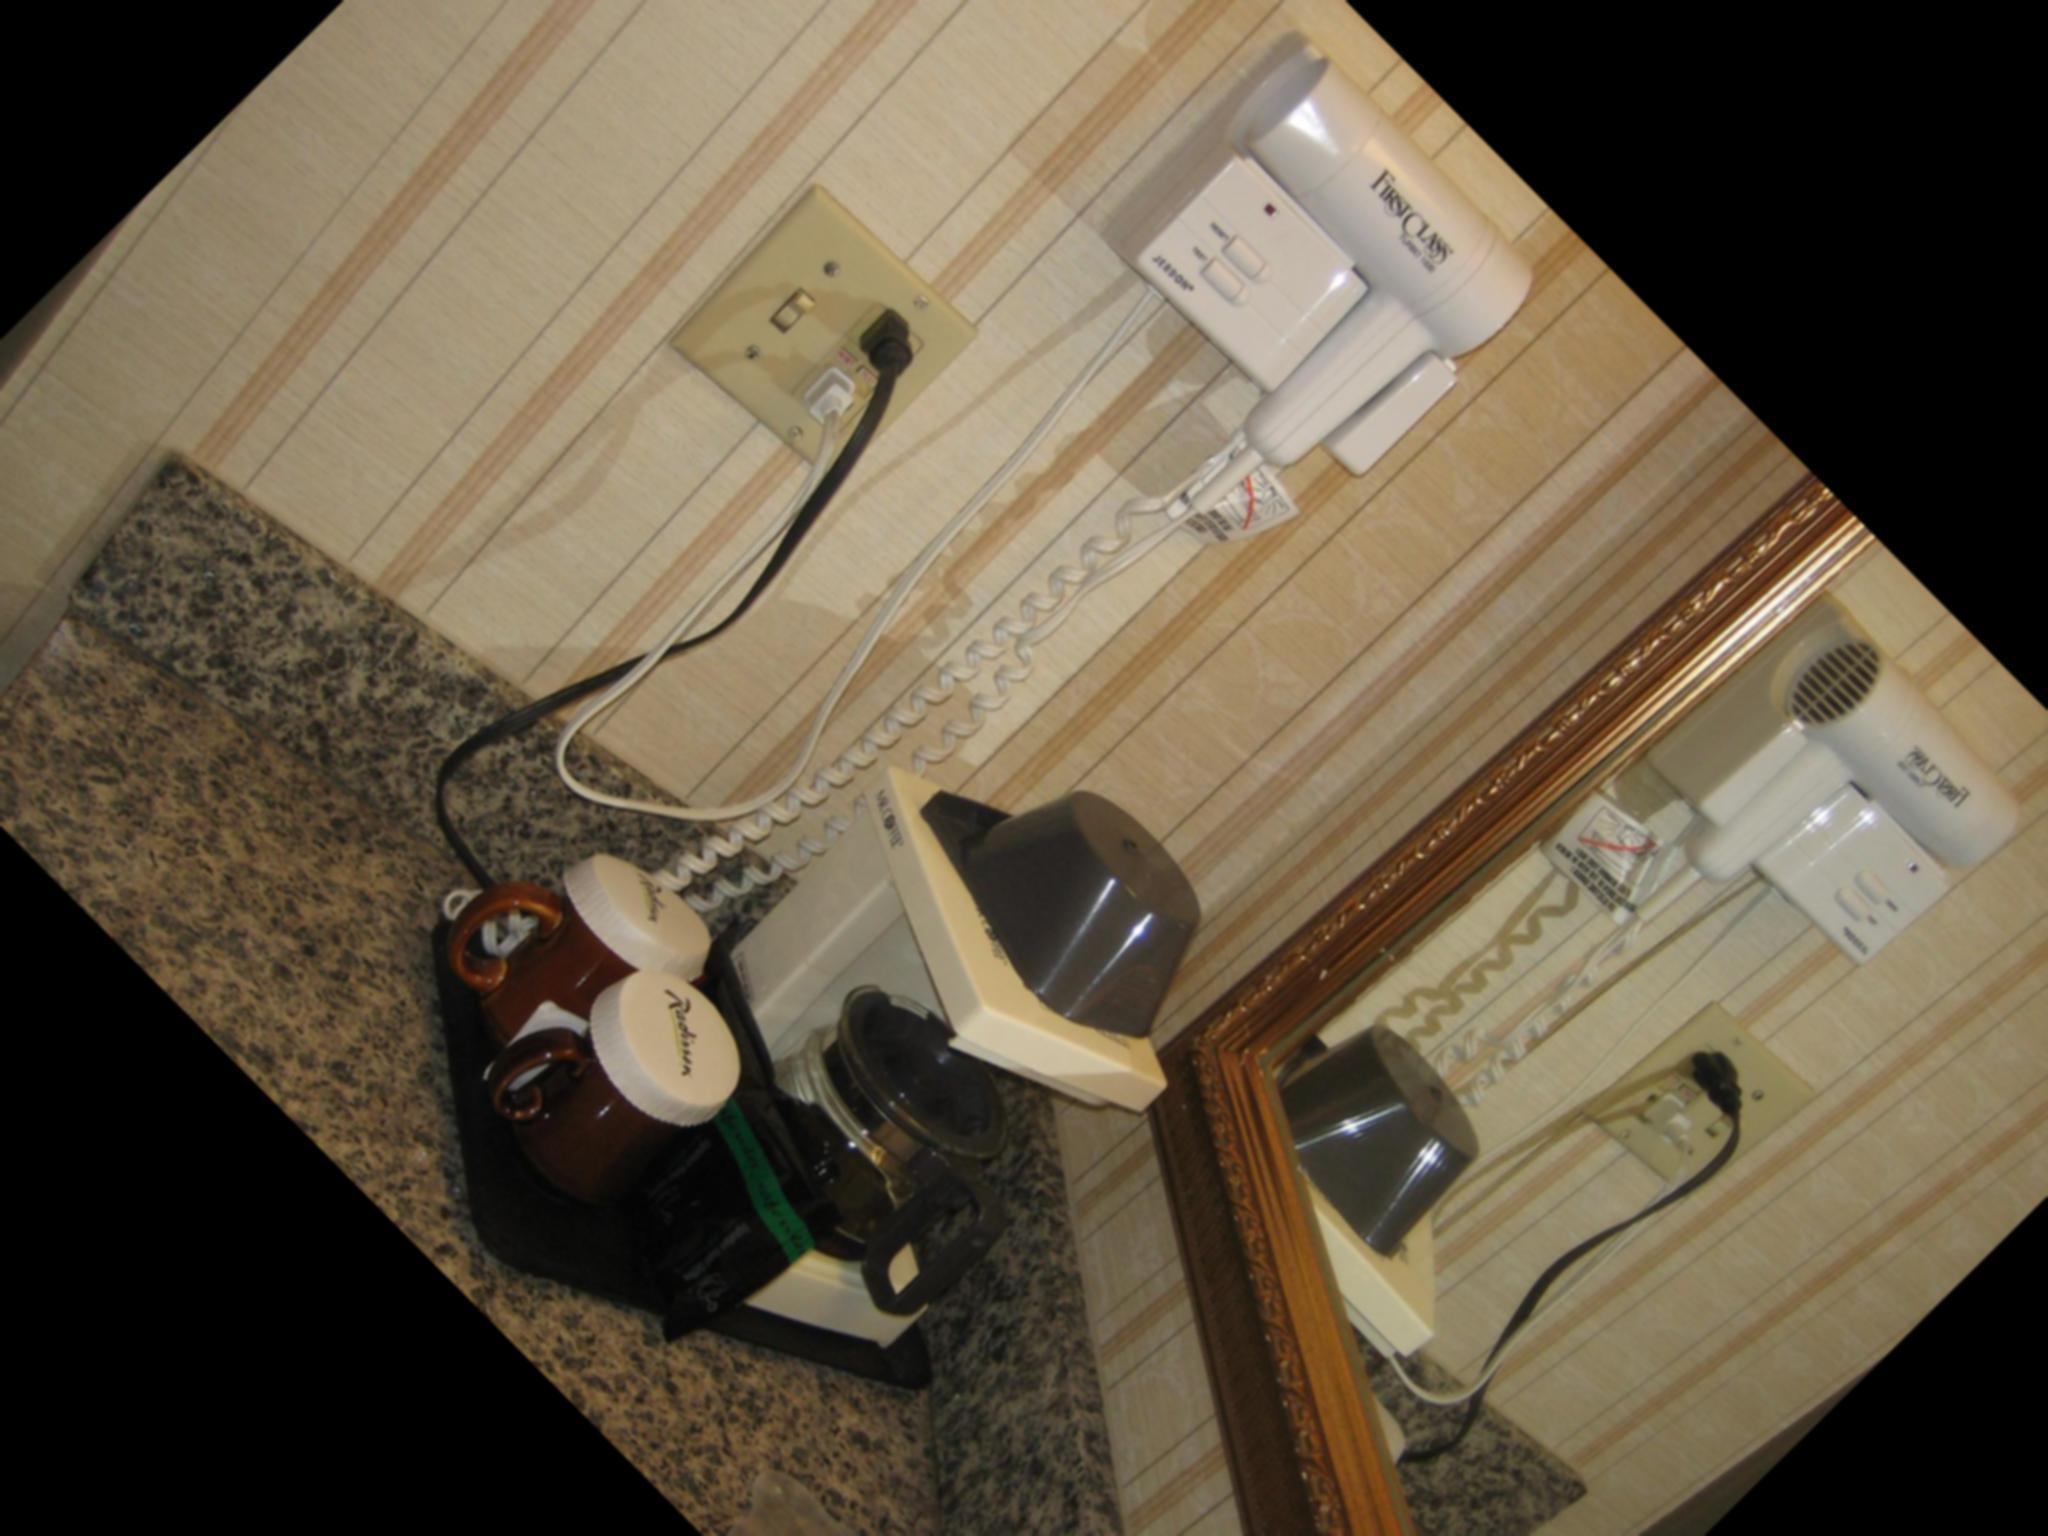Electrodomestico: (77, 0, 1800, 1536)
